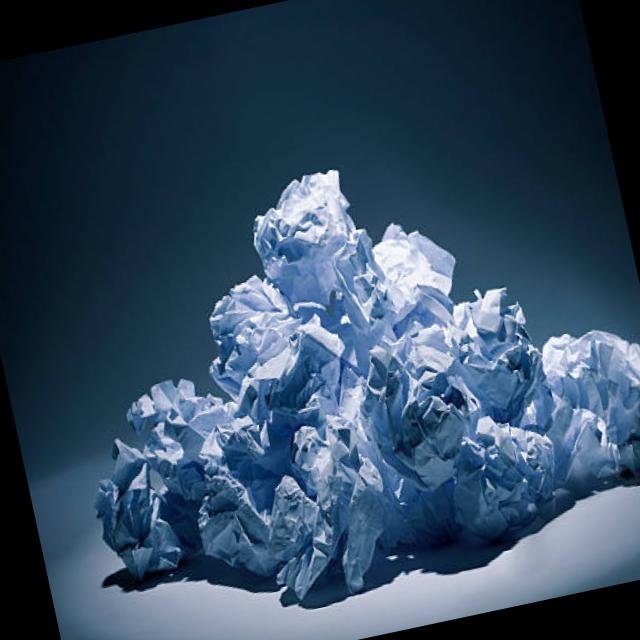electronic: (33, 109, 640, 640)
